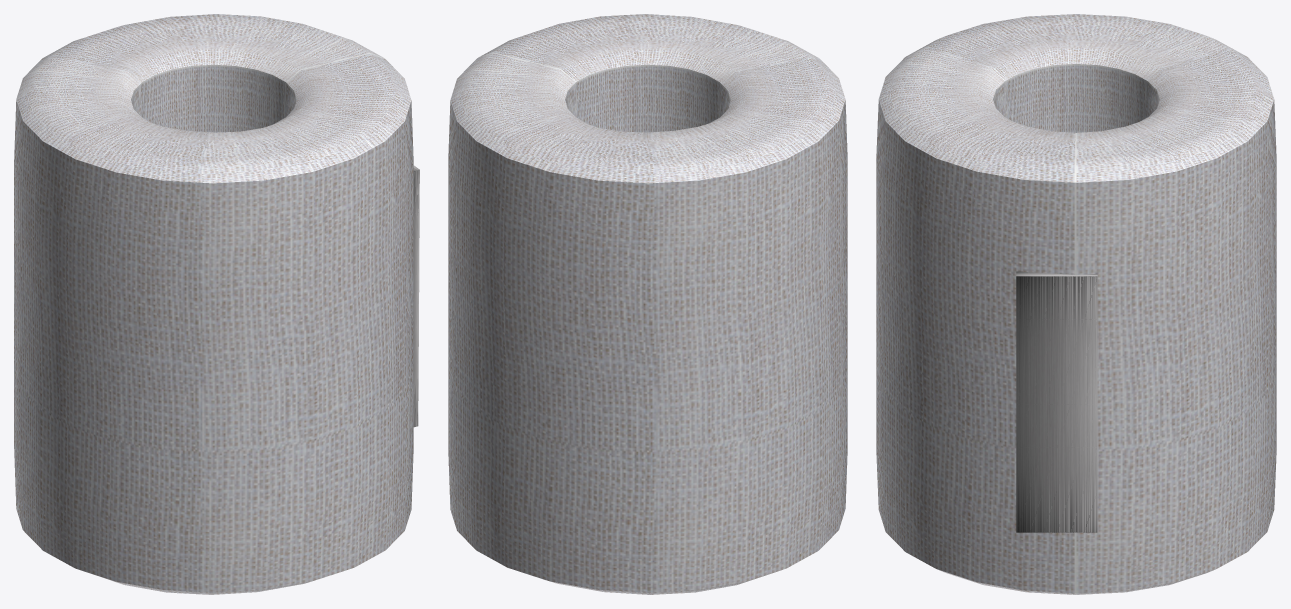
The model's file is bandage.fbx.
The picture shows the model from 3 angles, left to right: view 1: azimuth 30°, elevation 25°; view 2: azimuth 150°, elevation 25°; view 3: azimuth 270°, elevation 25°; orthographic projection.
Visible parts, largest first — view 1: Tube001; view 2: Tube001; view 3: Tube001.
Part boxes in pixels (<box>): Tube001: <box>14,14,419,594</box>; Tube001: <box>448,14,847,594</box>; Tube001: <box>876,14,1276,594</box>.
Bounding box in the file's own units: 2.03 × 2.37 × 2.01.
2 materials, 2 textured.
